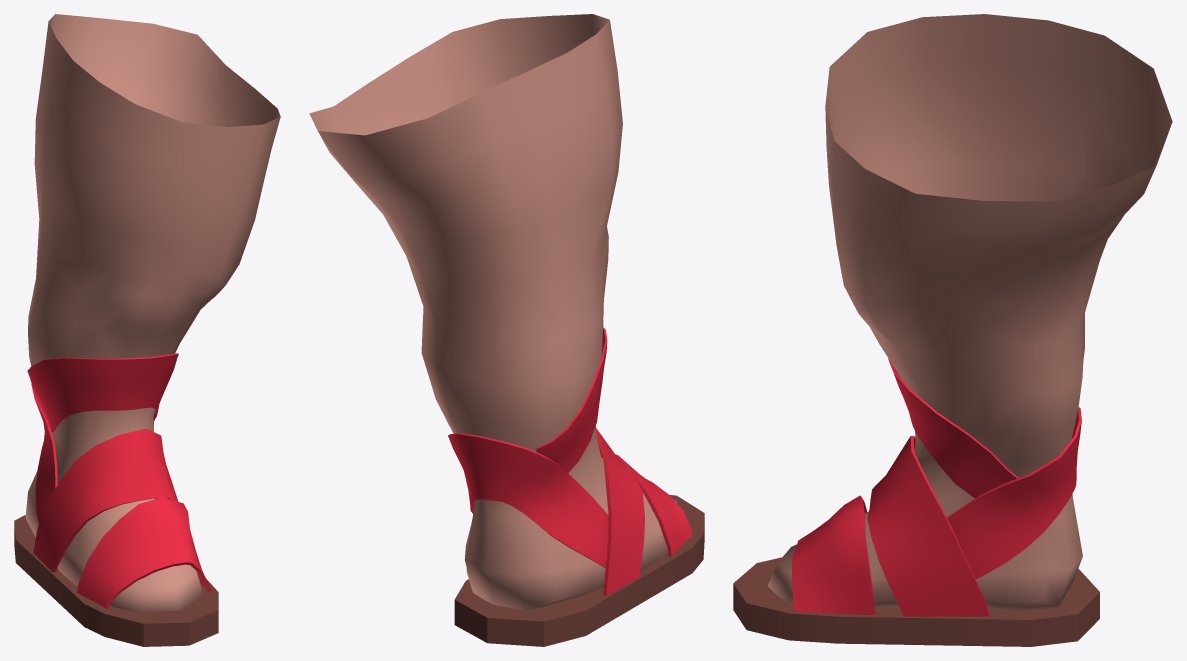
File: leg_R.fbx
3 renders of one model, left to right at view 1: azimuth 30°, elevation 25°; view 2: azimuth 150°, elevation 25°; view 3: azimuth 270°, elevation 25°, orthographic. The views are drawn at different scales.
Visible parts, largest first — view 1: Player.006, Sandal Stripe 2.002, Sandal Stripe 1.002, Sandal Stripe 4.002, Sandal Base.002, Sandal Stripe 3.002; view 2: Player.006, Sandal Stripe 3.002, Sandal Base.002, Sandal Stripe 2.002, Sandal Stripe 4.002, Sandal Stripe 1.002; view 3: Player.006, Sandal Base.002, Sandal Stripe 2.002, Sandal Stripe 3.002, Sandal Stripe 1.002, Sandal Stripe 4.002.
Part boxes in pixels (x1,y1,x2,y2): Player.006: [25, 14, 280, 612]; Sandal Stripe 2.002: [33, 428, 178, 572]; Sandal Stripe 1.002: [77, 497, 212, 608]; Sandal Stripe 4.002: [27, 353, 178, 432]; Sandal Base.002: [14, 515, 218, 646]; Sandal Stripe 3.002: [31, 384, 57, 524]; Player.006: [309, 14, 676, 611]; Sandal Stripe 3.002: [448, 433, 608, 567]; Sandal Base.002: [454, 495, 704, 646]; Sandal Stripe 2.002: [596, 428, 644, 595]; Sandal Stripe 4.002: [536, 327, 607, 473]; Sandal Stripe 1.002: [615, 454, 691, 556]; Player.006: [767, 14, 1172, 610]; Sandal Base.002: [733, 557, 1099, 646]; Sandal Stripe 2.002: [867, 436, 989, 616]; Sandal Stripe 3.002: [947, 407, 1081, 578]; Sandal Stripe 1.002: [792, 495, 875, 614]; Sandal Stripe 4.002: [888, 358, 1018, 497].
Bounding box in the file's own units: 32.04 × 66.34 × 44.64.
